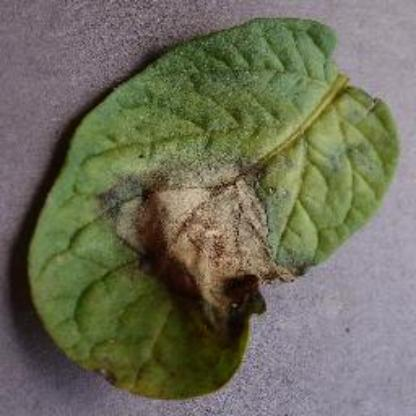Late-Blight: (20, 13, 400, 400)
